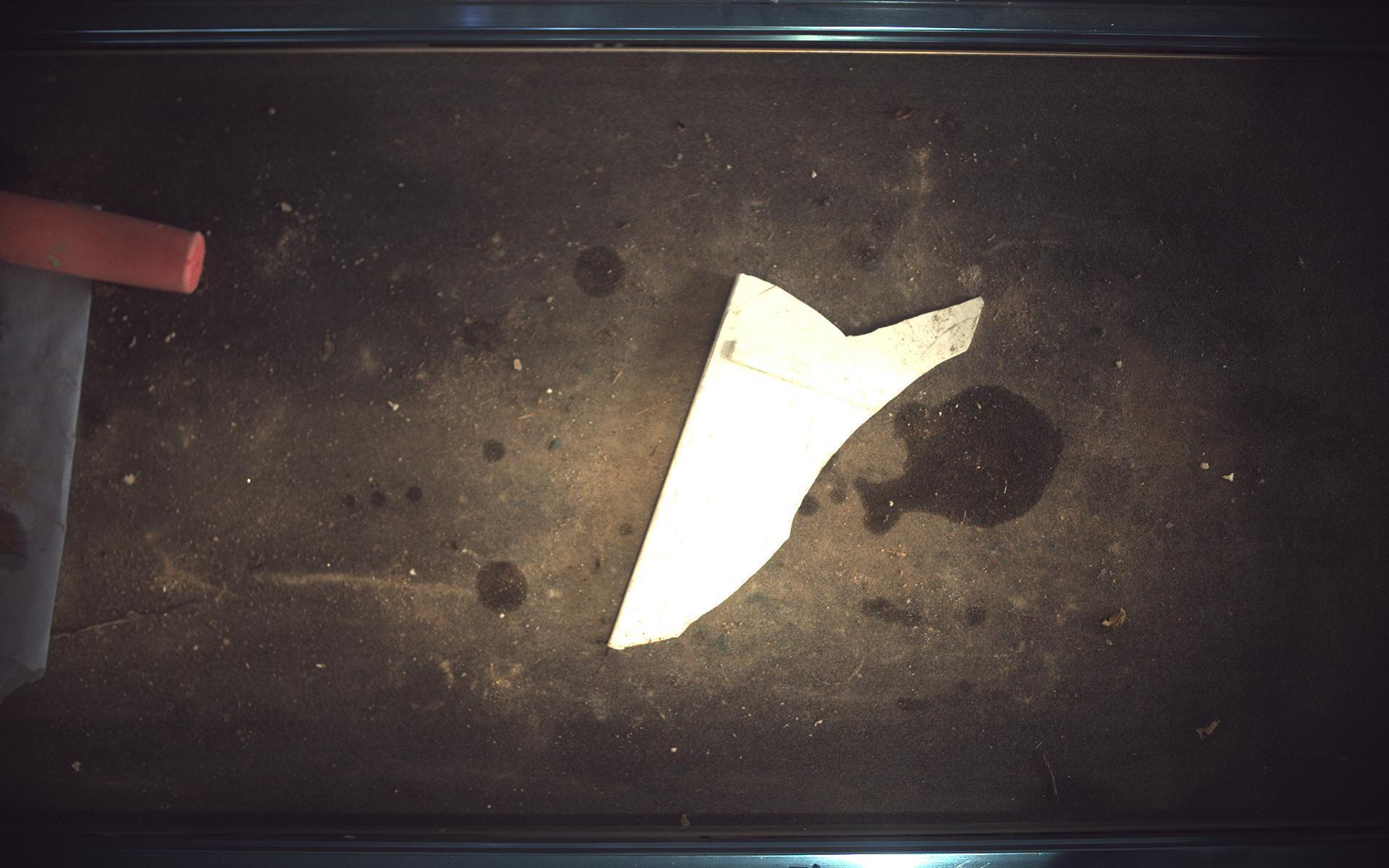plastic: (609, 273, 985, 650)
